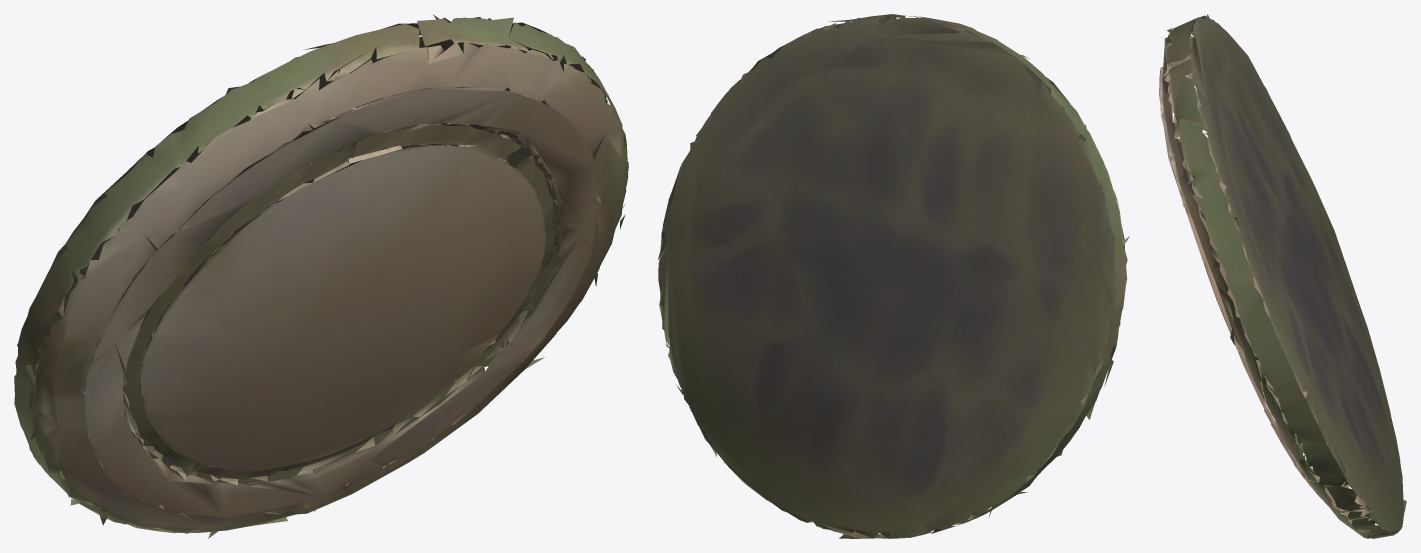
File: bucket.glb
The picture shows the model from 3 angles, left to right: view 1: azimuth 30°, elevation 25°; view 2: azimuth 150°, elevation 25°; view 3: azimuth 270°, elevation 25°; orthographic projection. The views are drawn at different scales.
Visible parts, largest first — view 1: Bucket; view 2: Bucket; view 3: Bucket.
Part boxes in pixels (x1=…): Bucket: x1=14, y1=14, x2=628, y2=538; Bucket: x1=658, y1=14, x2=1129, y2=538; Bucket: x1=1159, y1=14, x2=1406, y2=538.
Bounding box in the file's own units: 1 × 0.9461 × 0.4526.
Materials: 1 (1 with a texture image).
